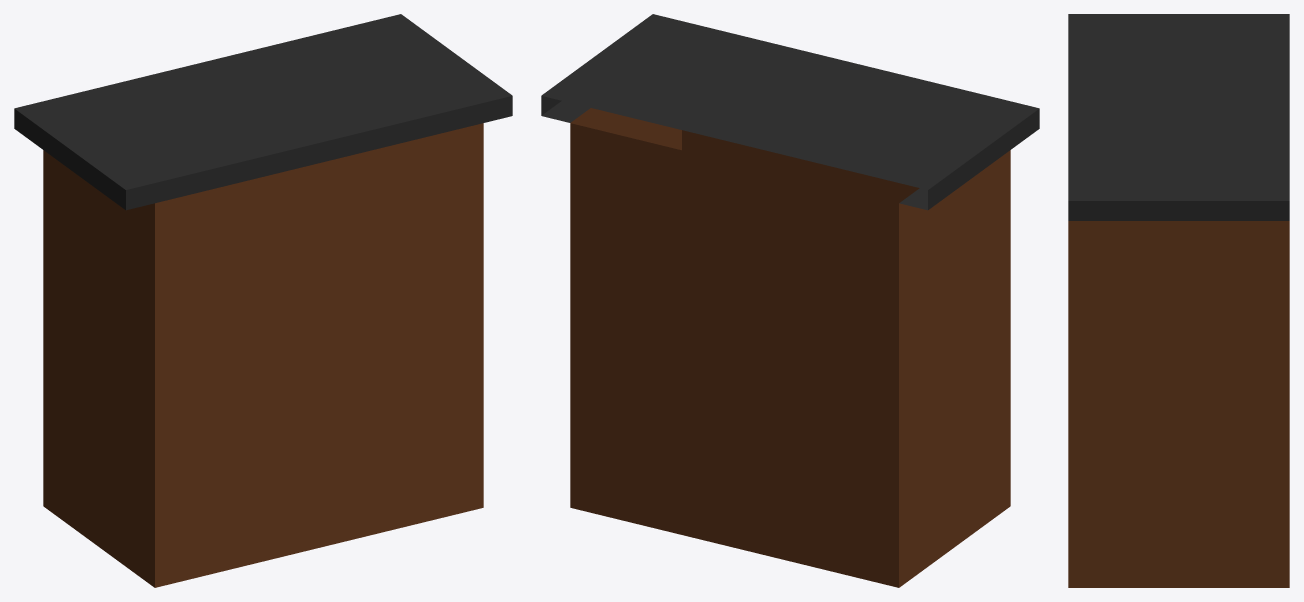
Rendered from CounterMid.fbx.
The picture shows the model from 3 angles, left to right: view 1: azimuth 30°, elevation 25°; view 2: azimuth 150°, elevation 25°; view 3: azimuth 270°, elevation 25°; orthographic projection.
Visible parts, largest first — view 1: Cube.013; view 2: Cube.013; view 3: Cube.013.
Boxes of the visible parts, left/top/right/bottom form: Cube.013: left=14, top=14, right=512, bottom=587; Cube.013: left=541, top=14, right=1039, bottom=587; Cube.013: left=1068, top=14, right=1289, bottom=587.
Bounding box in the file's own units: 100 × 100 × 50.
